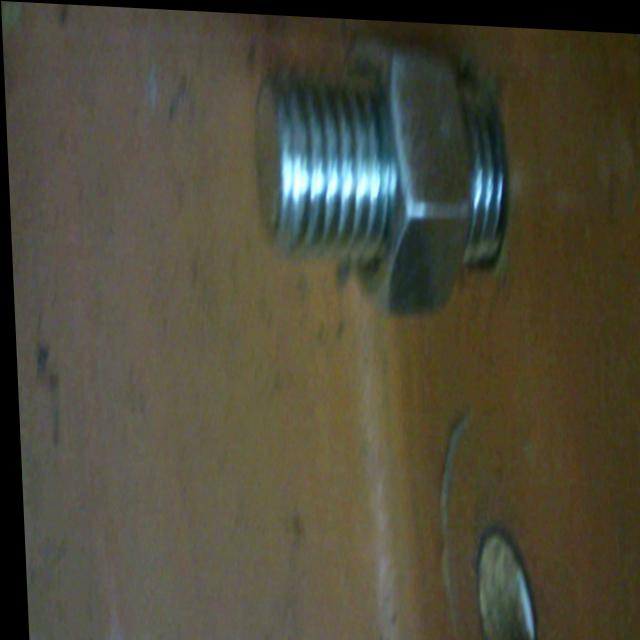Loose bolt: (250, 29, 502, 310)
Missing bolt: (465, 529, 538, 640)
Regular bolt: (240, 11, 505, 314)
